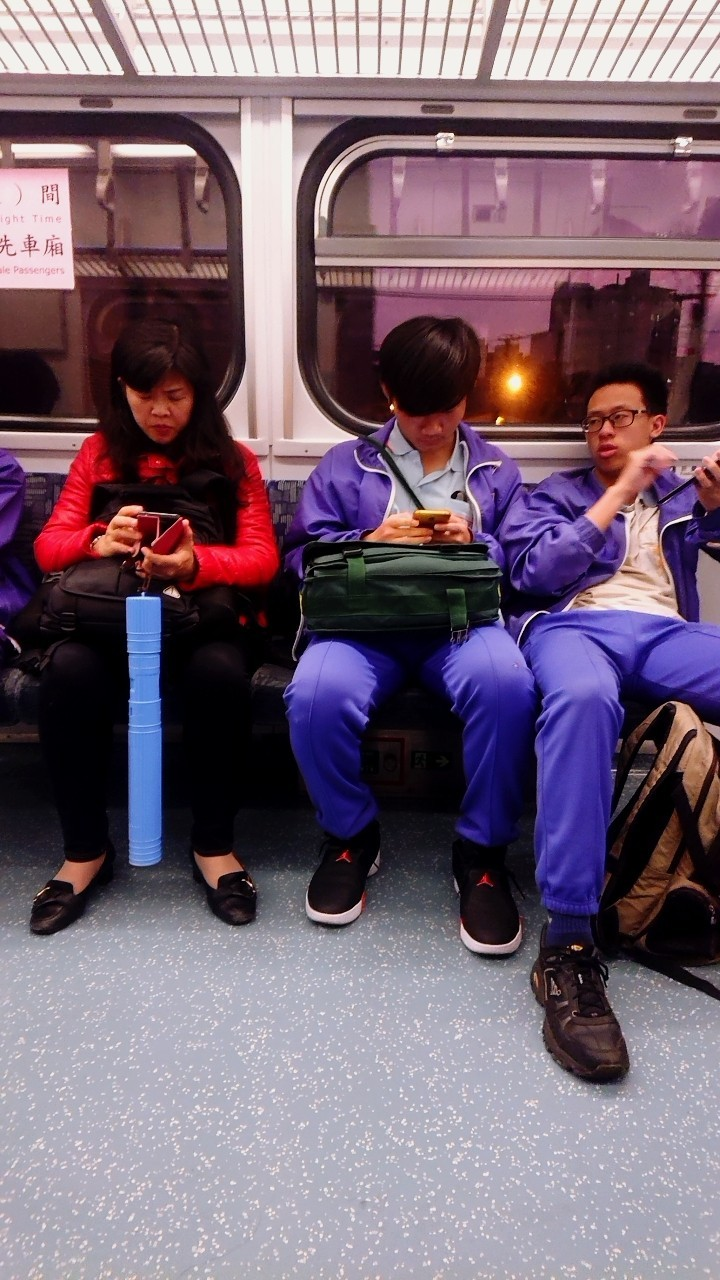people: (336, 321, 514, 955), (544, 370, 697, 1082), (73, 321, 256, 894)
